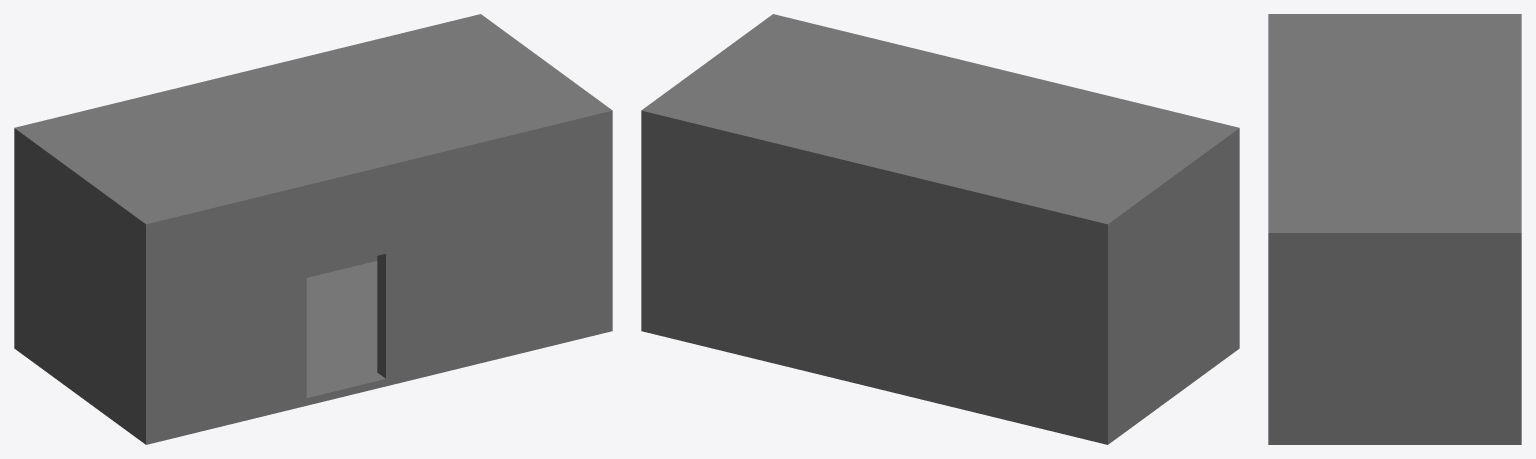
Rendered from house_test.obj.
3 views of the same model, side by side, from view 1: azimuth 30°, elevation 25°; view 2: azimuth 150°, elevation 25°; view 3: azimuth 270°, elevation 25° (orthographic). The views are drawn at different scales.
Visible parts, largest first — view 1: Cube; view 2: Cube; view 3: Cube.
Boxes of the visible parts, bbox=[...] form: Cube: bbox=[14, 14, 612, 444]; Cube: bbox=[641, 14, 1239, 444]; Cube: bbox=[1268, 14, 1521, 444].
Bounding box in the file's own units: 8.1 × 3.66 × 3.97.
